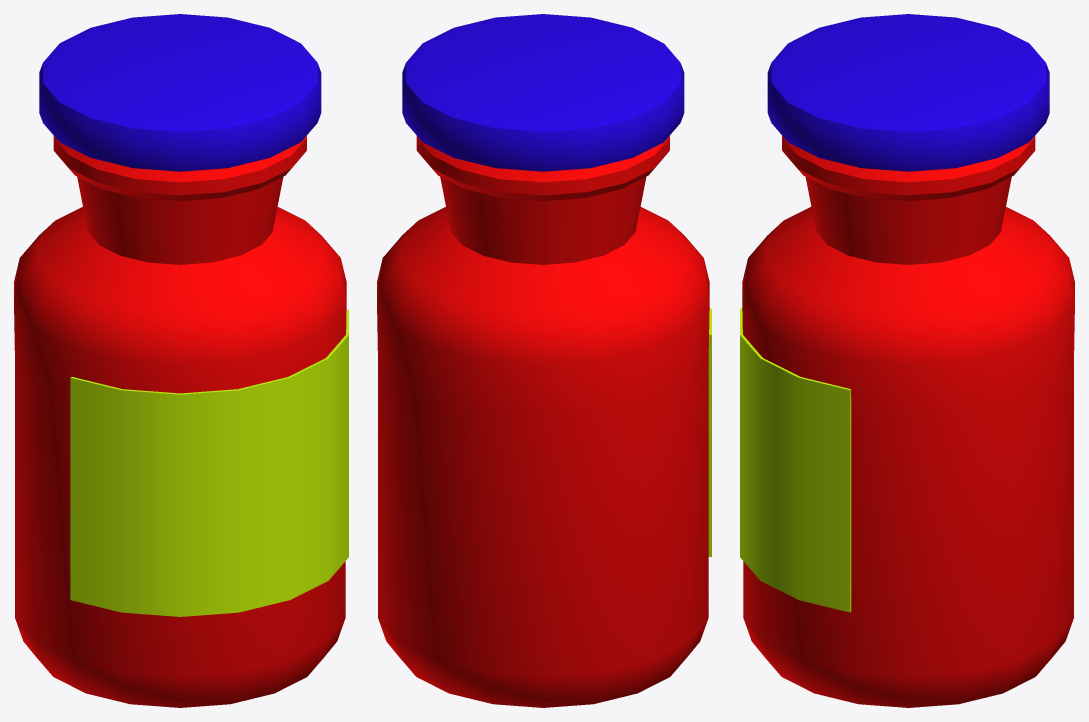
File: 广口瓶.FBX
3 views of the same model, side by side, from view 1: azimuth 30°, elevation 25°; view 2: azimuth 150°, elevation 25°; view 3: azimuth 270°, elevation 25° (orthographic).
Parts seen in each view (by area): view 1: 瓶身, 标签, 盖子; view 2: 瓶身, 盖子, 标签; view 3: 瓶身, 盖子, 标签.
Boxes of the visible parts, x1=… form: 瓶身: x1=14, y1=136, x2=346, y2=707; 标签: x1=70, y1=309, x2=348, y2=616; 盖子: x1=39, y1=14, x2=321, y2=171; 瓶身: x1=377, y1=136, x2=709, y2=707; 盖子: x1=402, y1=14, x2=684, y2=171; 标签: x1=708, y1=307, x2=711, y2=556; 瓶身: x1=742, y1=136, x2=1074, y2=707; 盖子: x1=767, y1=14, x2=1049, y2=171; 标签: x1=740, y1=307, x2=851, y2=612.
Size of the model in its own units: 7.3 by 13.74 by 7.24.
